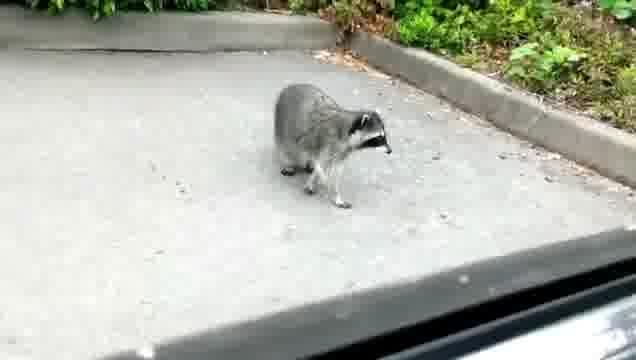raccoon: (272, 80, 395, 214)
